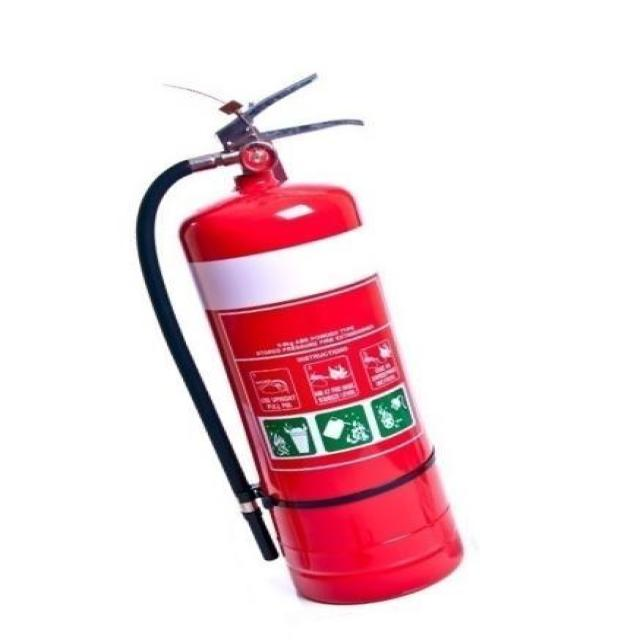fire_extinguisher: (122, 67, 474, 611)
